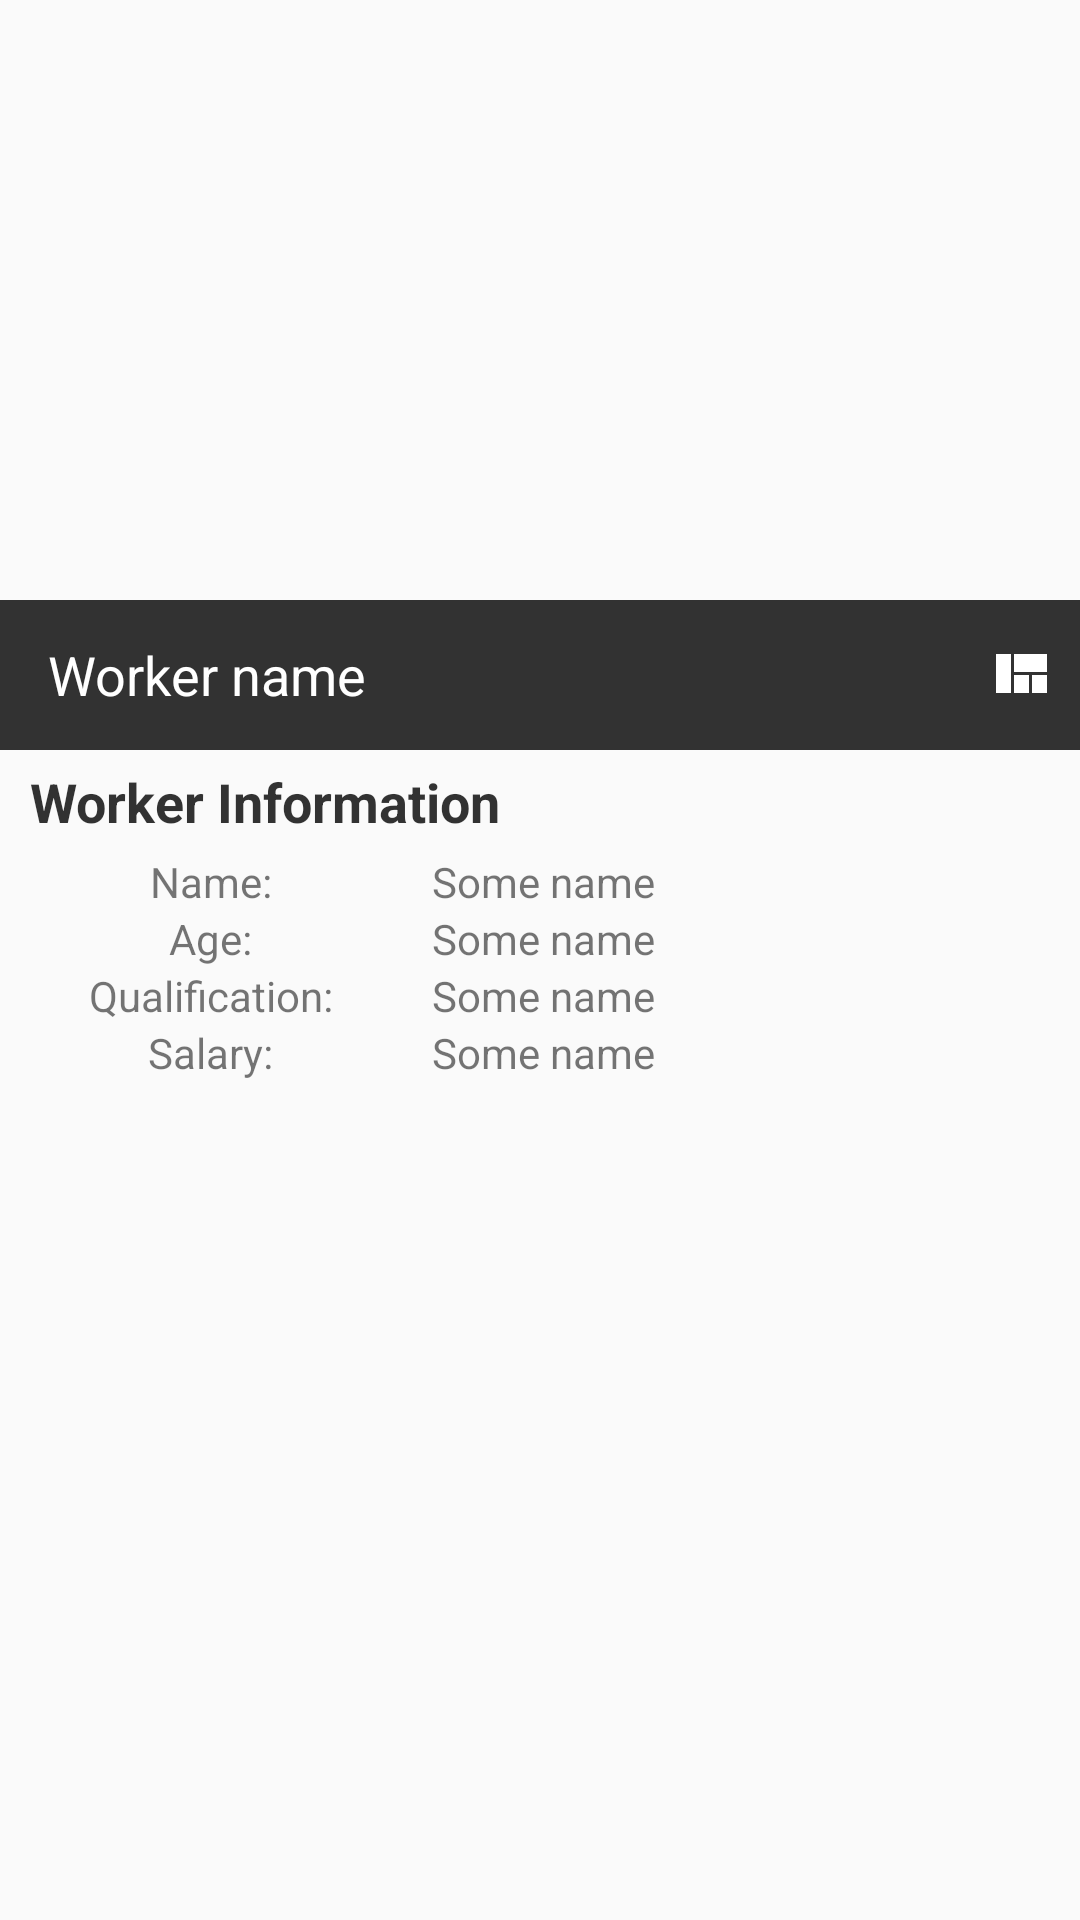

Icons on this 1080w x 1920h Android screen, each with the point to tap as (x,y):
view quilt: (1021,673)
